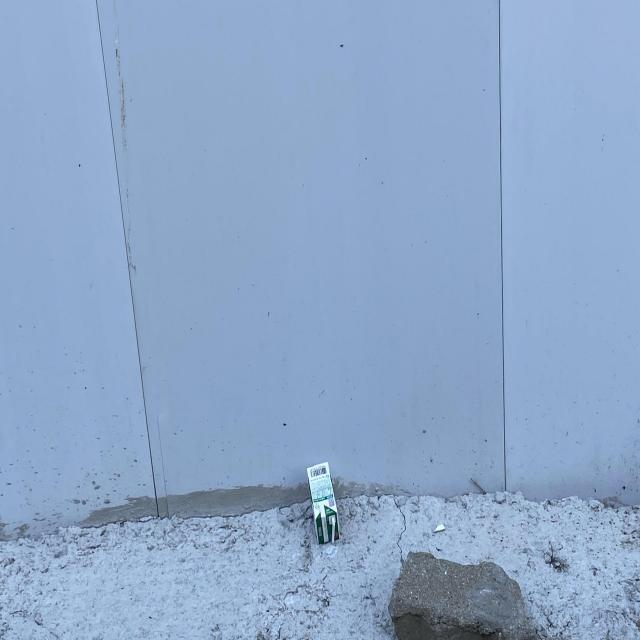paperpack: (307, 462, 339, 544)
